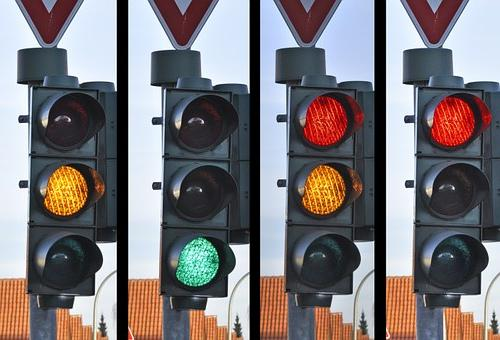trafic: (30, 86, 102, 294), (160, 87, 232, 295), (289, 88, 361, 296), (415, 85, 487, 293)
